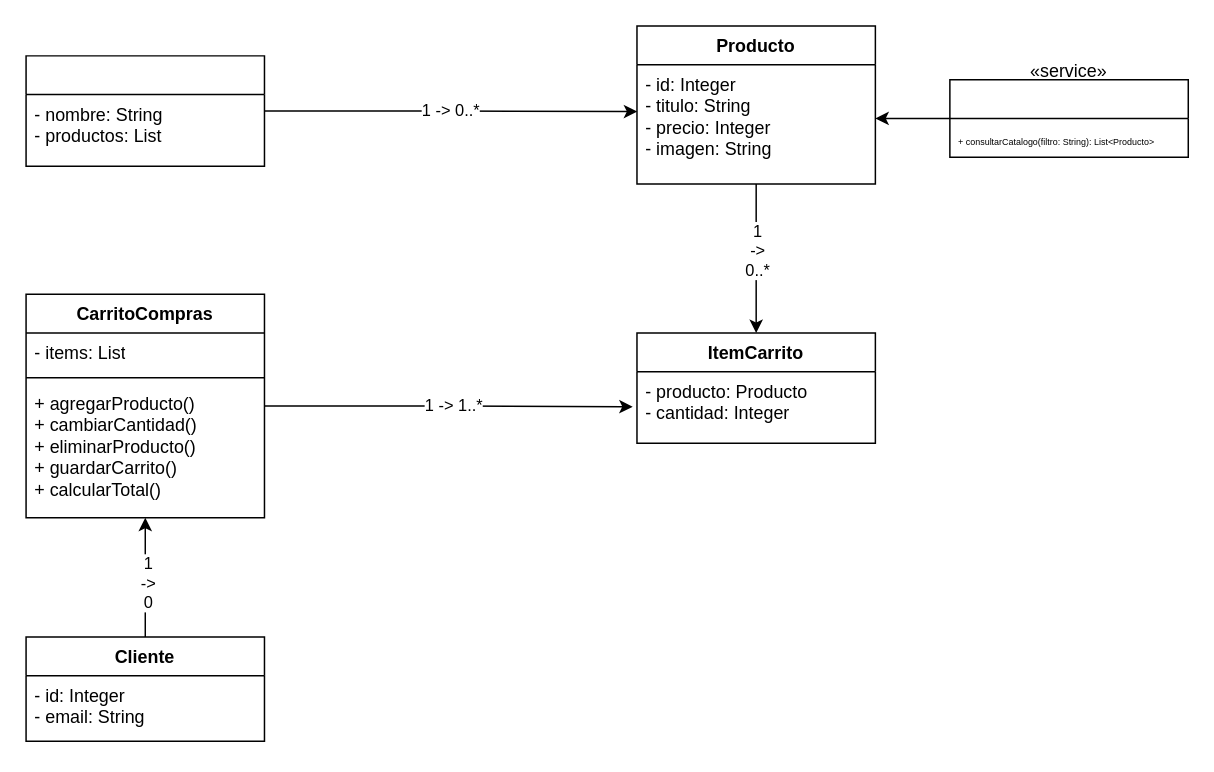
Some shapes in this 1214 by 772 pixel diagram are drawn without their labels. Here are the shapes that lost their labels. From the top down, the box of each, then its label:
(25, 54, 264, 166): Categoria
(948, 78, 1188, 157): CatalogService
